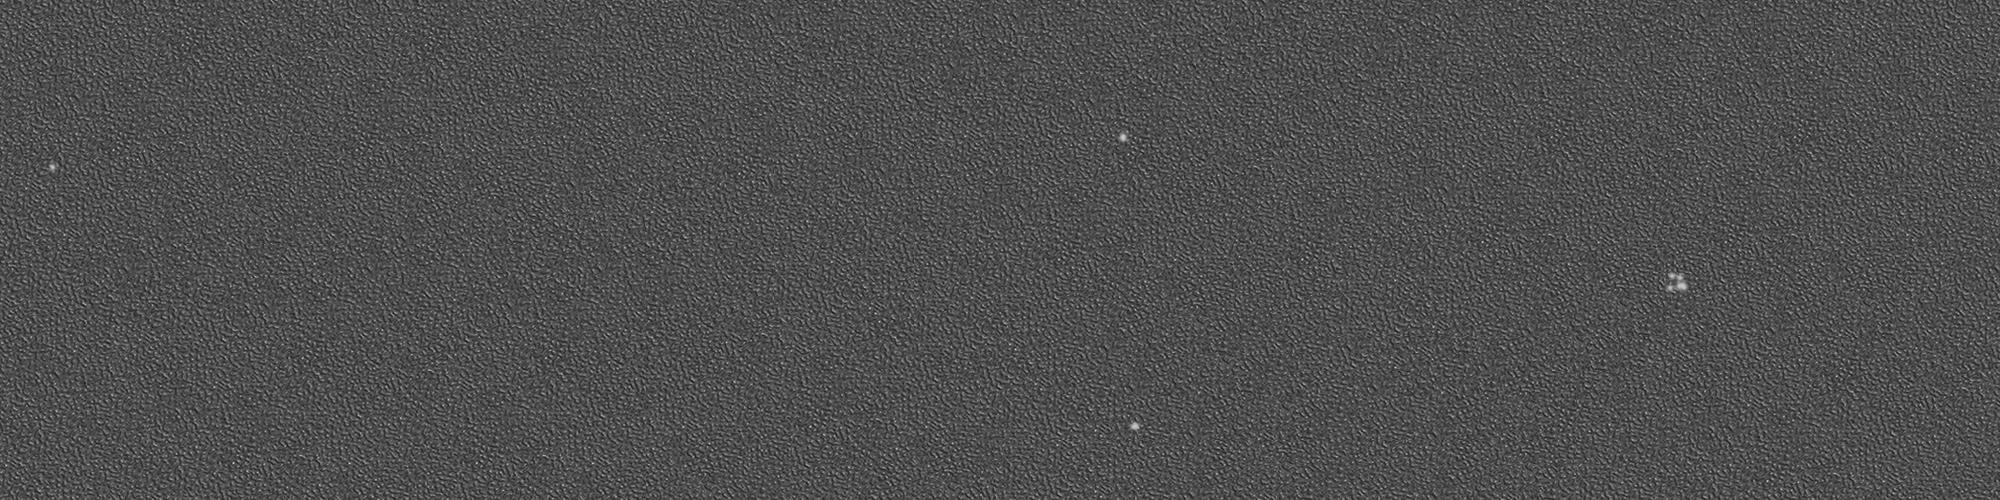Particles: (1662, 270, 1693, 295), (1126, 418, 1142, 434), (1116, 133, 1131, 145), (46, 161, 60, 173)
